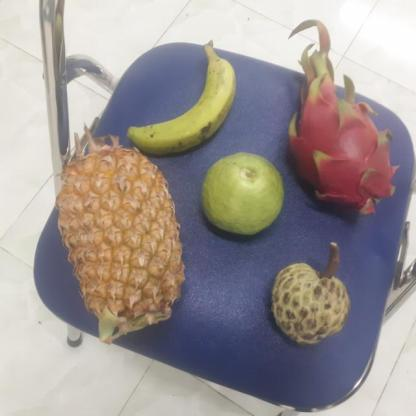annona: (266, 259, 350, 345)
banana: (128, 52, 235, 154)
guava: (197, 152, 283, 235)
pineapple: (51, 144, 182, 334)
pitaya: (281, 87, 391, 215)
